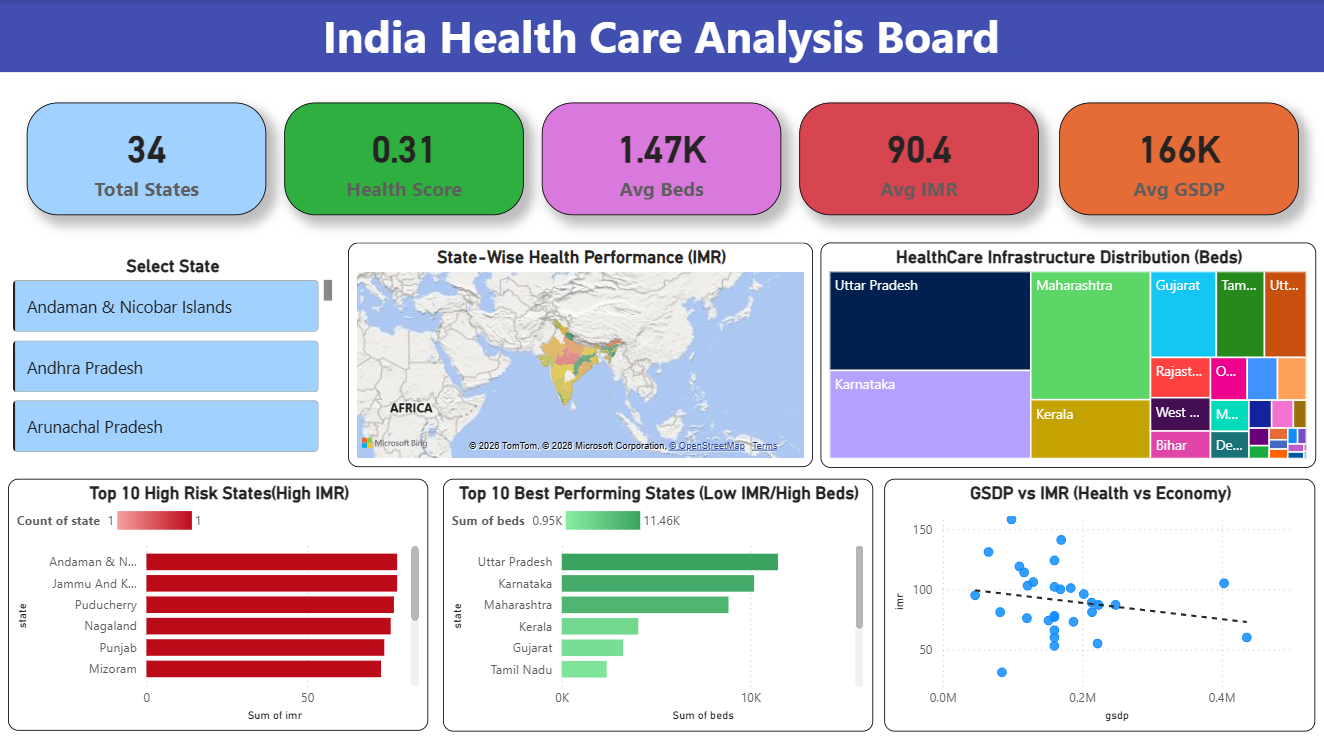

The page's visual inventory and layout, read from the dashboard file:
{"tool":"powerbi","page":{"name":"Page 1","canvas":[1280,720],"ordinal":0},"visuals":[{"type":"card","fields":{"Values":["health_master_final.Health Score"]},"box":[276.4,99,231.1,108.8],"z":0},{"type":"card","fields":{"Values":["health_master_final.Total States"]},"box":[28.1,99,231.1,108.8],"z":1000},{"type":"card","fields":{"Values":["health_master_final.Avg GSDP"]},"box":[1024.7,99,231.1,108.8],"z":2000},{"type":"card","fields":{"Values":["health_master_final.Avg Beds"]},"box":[524.6,99,231.1,108.8],"z":3000},{"type":"card","fields":{"Values":["health_master_final.Avg IMR"]},"box":[772.8,99,231.1,108.8],"z":4000},{"type":"filledMap","title":"State-Wise Health Performance (IMR)","fields":{"Category":["health_master_final.state"],"Y":["Avg(health_master_final.latitude)"],"X":["Avg(health_master_final.longitude)"]},"box":[337.8,234,448.8,217.2],"z":5000},{"type":"scatterChart","title":"GSDP vs IMR (Health vs Economy)","fields":{"X":["health_master_final.gsdp"],"Y":["health_master_final.imr"]},"box":[855.4,462.1,416.2,243.7],"z":7000},{"type":"clusteredBarChart","title":"Top 10 Best Performing States (Low IMR/High Beds)","fields":{"Y":["Sum(health_master_final.beds)"],"Category":["health_master_final.state"]},"box":[429.5,462.1,415,243.7],"z":8000},{"type":"barChart","title":"Top 10 High Risk States(High IMR)","fields":{"Category":["health_master_final.state"],"Y":["Sum(health_master_final.imr)"]},"box":[9.8,462.2,406,243.3],"z":9000},{"type":"treemap","title":"HealthCare Infrastructure Distribution (Beds)","fields":{"Group":["health_master_final.state"],"Values":["Sum(health_master_final.beds)"]},"box":[793.6,233.6,478.1,217.7],"z":10000},{"type":"advancedSlicerVisual","title":"Select State","fields":{"Values":["health_master_final.state"]},"box":[9.7,246.1,318.5,196.6],"z":11000},{"type":"textbox","box":[0,0,1280,70],"z":12000}]}

Visuals, with their boxes in screenshot pixels (x1, y1, x2, y2), scaled from the page's 1280x720 canvas onto the 1324x740 screenshot:
card - health_master_final.Health Score: <box>286,102,525,214</box>
card - health_master_final.Total States: <box>29,102,268,214</box>
card - health_master_final.Avg GSDP: <box>1060,102,1299,214</box>
card - health_master_final.Avg Beds: <box>543,102,782,214</box>
card - health_master_final.Avg IMR: <box>799,102,1038,214</box>
"State-Wise Health Performance (IMR)" filledMap: <box>349,240,814,464</box>
"GSDP vs IMR (Health vs Economy)" scatterChart: <box>885,475,1315,725</box>
"Top 10 Best Performing States (Low IMR/High Beds)" clusteredBarChart: <box>444,475,874,725</box>
"Top 10 High Risk States(High IMR)" barChart: <box>10,475,430,725</box>
"HealthCare Infrastructure Distribution (Beds)" treemap: <box>821,240,1315,464</box>
"Select State" advancedSlicerVisual: <box>10,253,339,455</box>
textbox: <box>0,0,1323,72</box>
